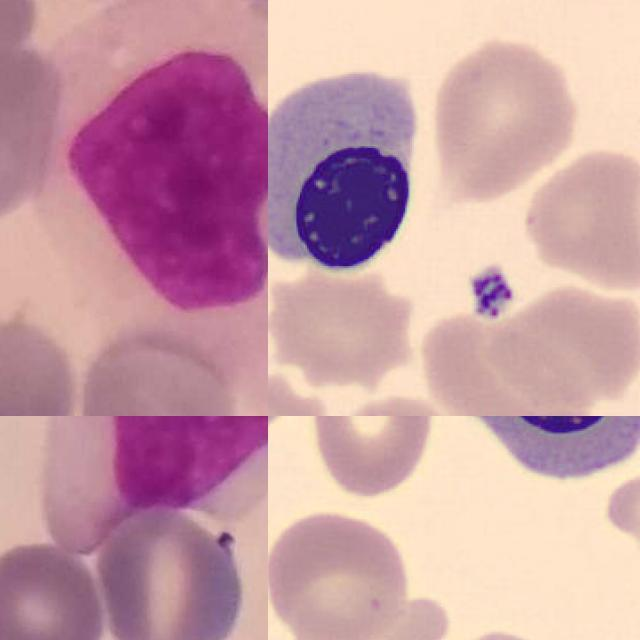Lymphocyte: (268, 56, 435, 280), (439, 416, 640, 496)
Monocyte: (43, 0, 268, 352), (28, 416, 268, 556)
Platelets: (465, 263, 517, 323)
RBC: (425, 34, 585, 207), (268, 506, 412, 640), (488, 282, 640, 407), (520, 140, 640, 294), (304, 416, 441, 501), (339, 389, 550, 416), (599, 464, 640, 573), (419, 624, 565, 640)
